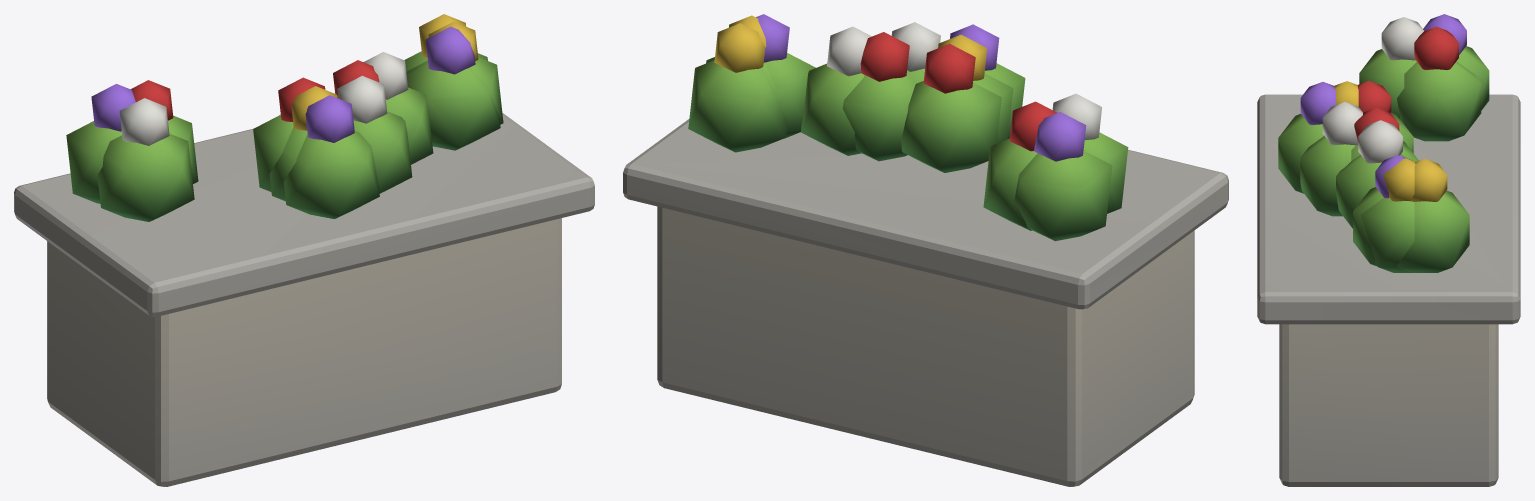
Rendered from planter.glb.
3 views of the same model, side by side, from view 1: azimuth 30°, elevation 25°; view 2: azimuth 150°, elevation 25°; view 3: azimuth 270°, elevation 25° (orthographic). The views are drawn at different scales.
Parts seen in each view (by area): view 1: Planter; view 2: Planter; view 3: Planter.
Part boxes in pixels (<box>): Planter: <box>14,14,594,486</box>; Planter: <box>623,14,1228,486</box>; Planter: <box>1257,14,1520,486</box>.
Size of the model in its own units: 1.1 by 0.785 by 0.6.
